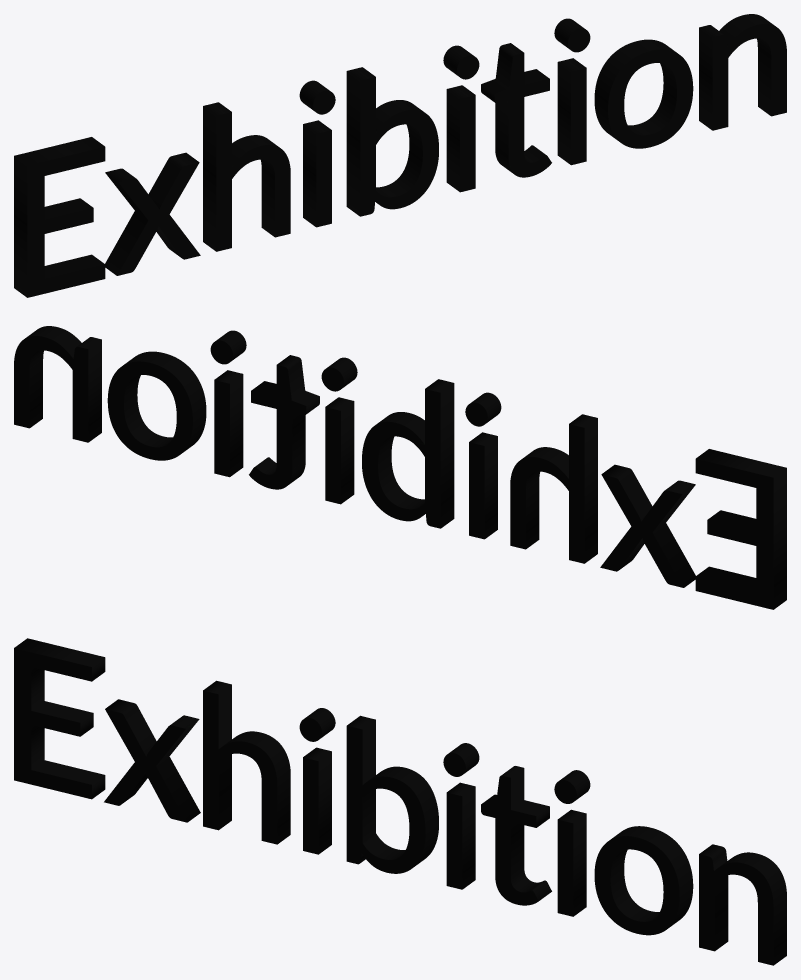
The picture shows the model from 3 angles, top to bottom: view 1: azimuth 30°, elevation 25°; view 2: azimuth 150°, elevation 25°; view 3: azimuth 330°, elevation 25°; orthographic projection.
Parts seen in each view (by area): view 1: node_id4; view 2: node_id4; view 3: node_id4.
Part boxes in pixels (bbox=[...]): node_id4: bbox=[14, 14, 786, 297]; node_id4: bbox=[14, 326, 786, 609]; node_id4: bbox=[14, 638, 786, 965].
Bounding box in the file's own units: 0.512 × 0.0886 × 0.0157.
1 material, 1 textured.
